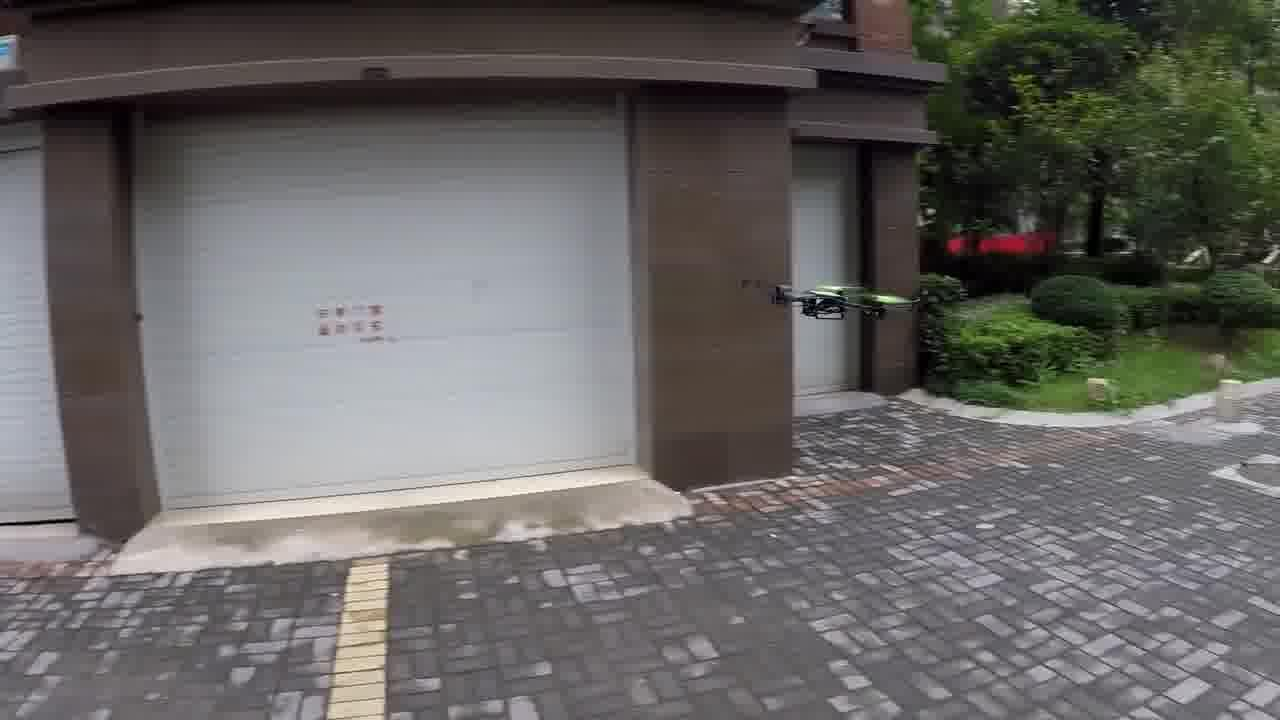drone: (724, 268, 911, 330)
